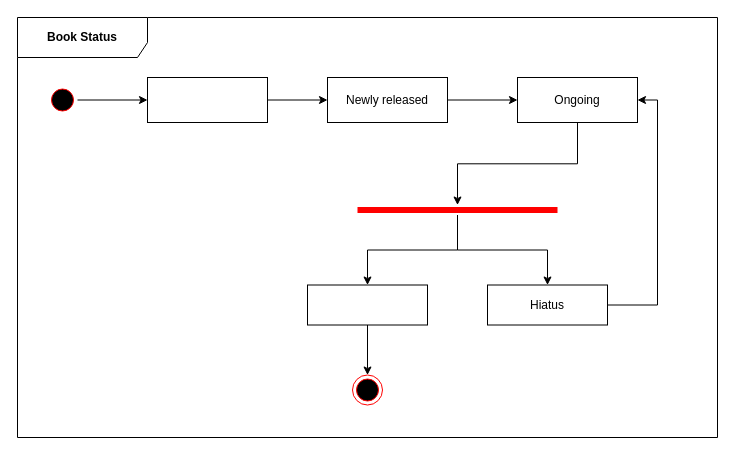
This 735x455 diagram has some shape labels left out. The box of each missing label's shape, as (x1, y1, x2, y2) in pixels:
Completed: (306, 284, 428, 325)
Unreleased: (146, 76, 268, 122)
